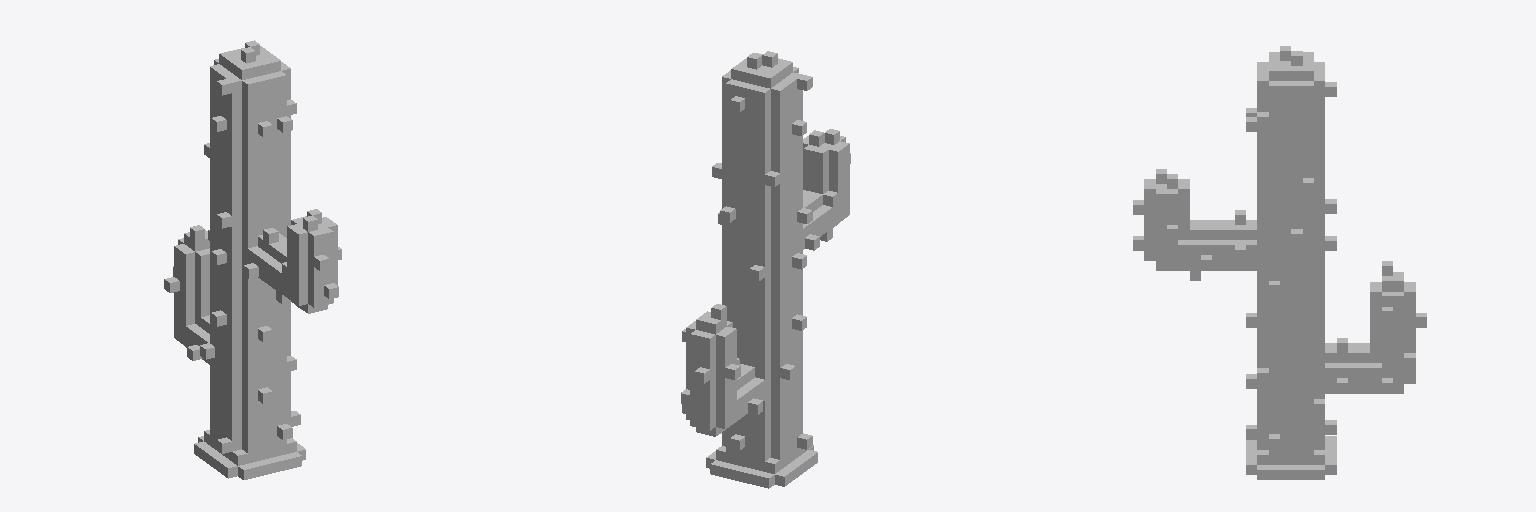
File: cactus.obj
3 views of the same model, side by side, from view 1: azimuth 30°, elevation 25°; view 2: azimuth 150°, elevation 25°; view 3: azimuth 270°, elevation 25° (orthographic).
Parts seen in each view (by area): view 1: object 1; view 2: object 1; view 3: object 1.
Boxes of the visible parts, box(x1,y1,x2,y2) form: object 1: box(164, 40, 341, 479); object 1: box(681, 51, 850, 488); object 1: box(1133, 46, 1426, 479).
Size of the model in its own units: 0.8 by 4 by 2.6.